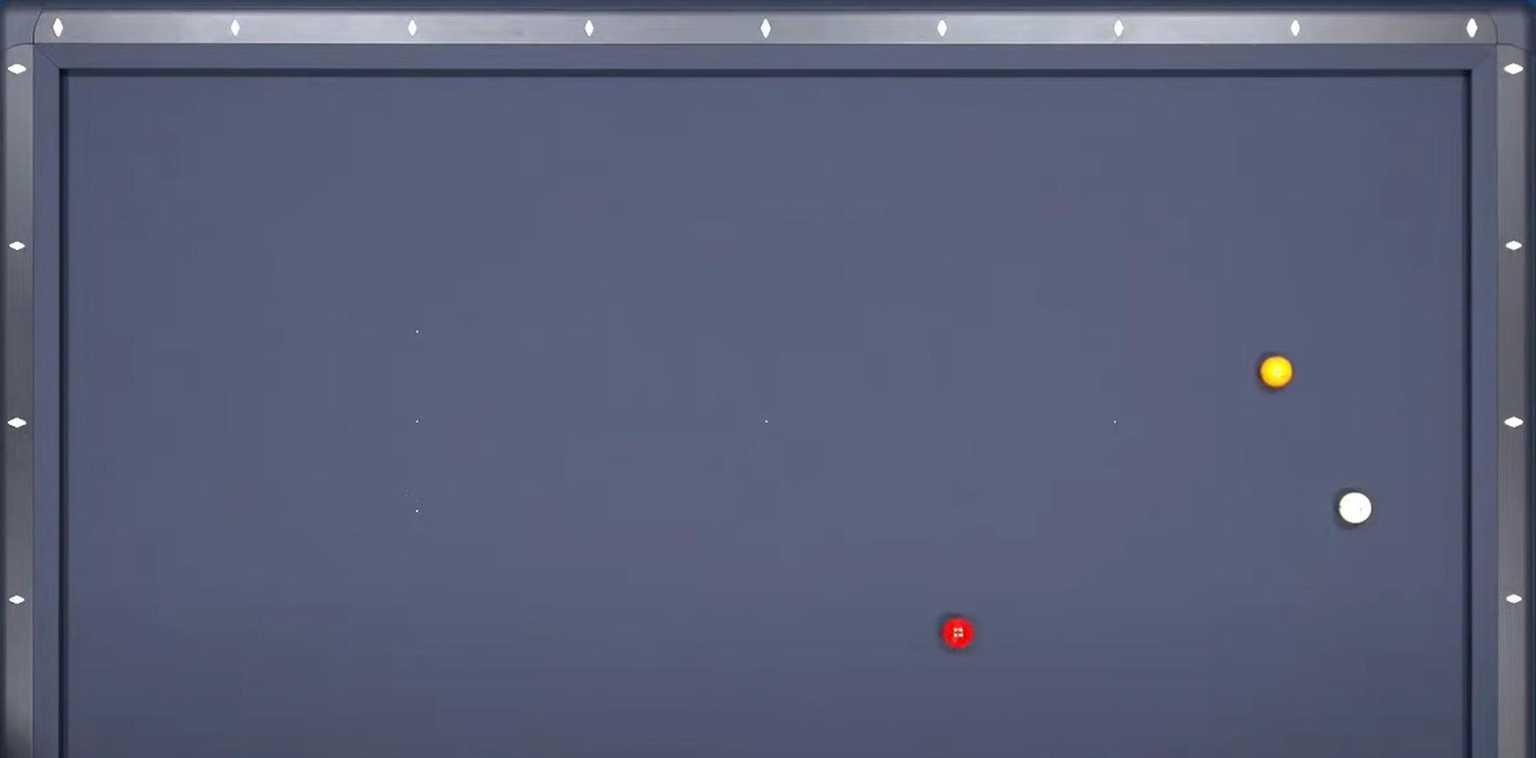red ball: (939, 612, 979, 654)
white ball: (1334, 490, 1376, 528)
yellow ball: (1256, 354, 1296, 391)
